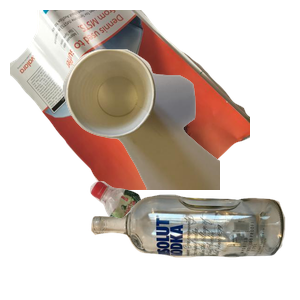glass: (88, 192, 300, 300)
paper: (10, 10, 250, 190)
plastic: (87, 178, 234, 300)
trash: (60, 47, 300, 227)
